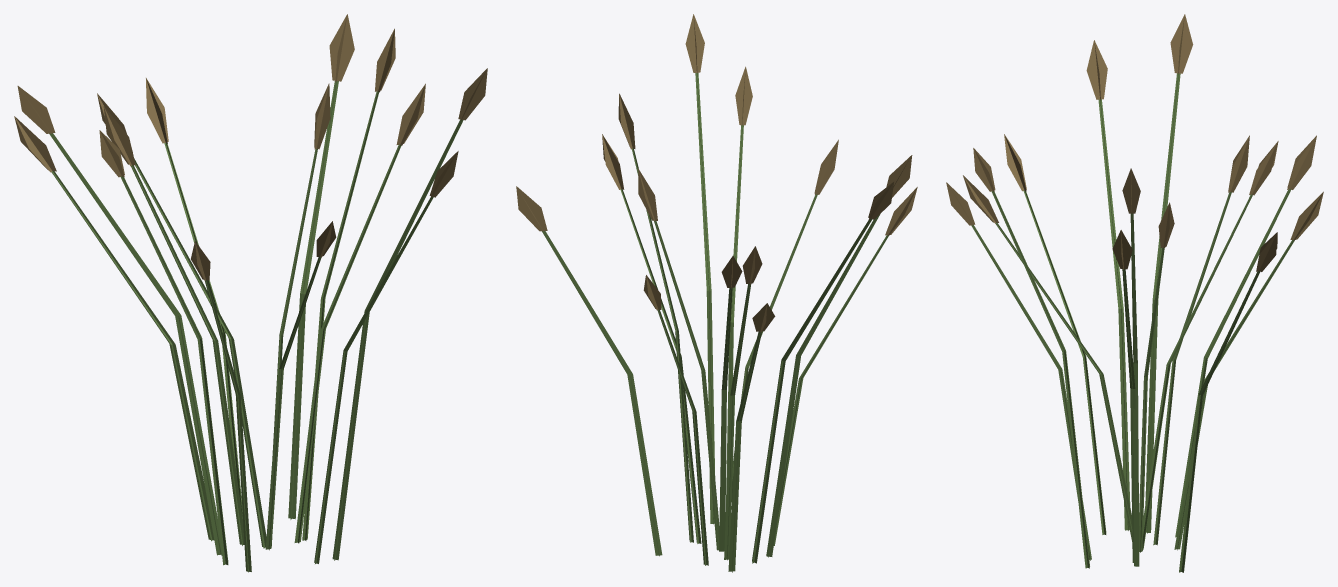
Rendered from reed_clump.glb.
3 views of the same model, side by side, from view 1: azimuth 30°, elevation 25°; view 2: azimuth 150°, elevation 25°; view 3: azimuth 270°, elevation 25° (orthographic). The views are drawn at different scales.
Parts seen in each view (by area): view 1: reed_clump; view 2: reed_clump; view 3: reed_clump.
Boxes of the visible parts, bbox=[...] form: reed_clump: bbox=[14, 14, 487, 572]; reed_clump: bbox=[516, 14, 917, 572]; reed_clump: bbox=[946, 14, 1323, 572].
Size of the model in its own units: 1.04 by 1.35 by 1.01.
